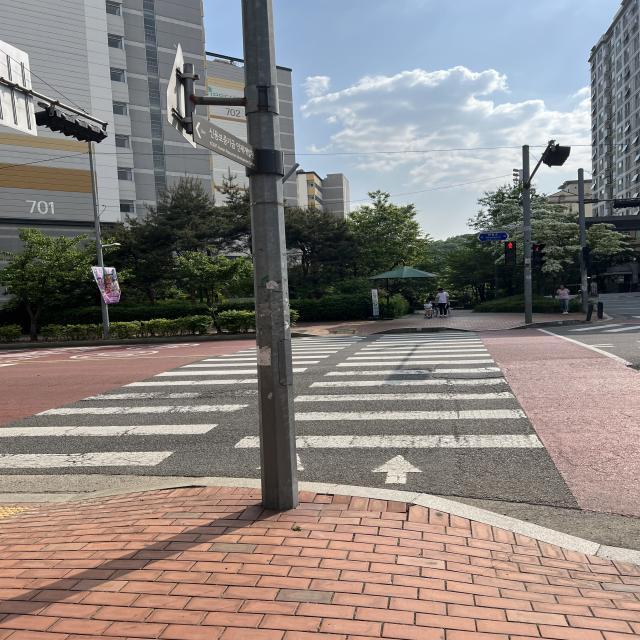crosswalk: (1, 315, 578, 513)
red-light: (503, 234, 518, 262)
